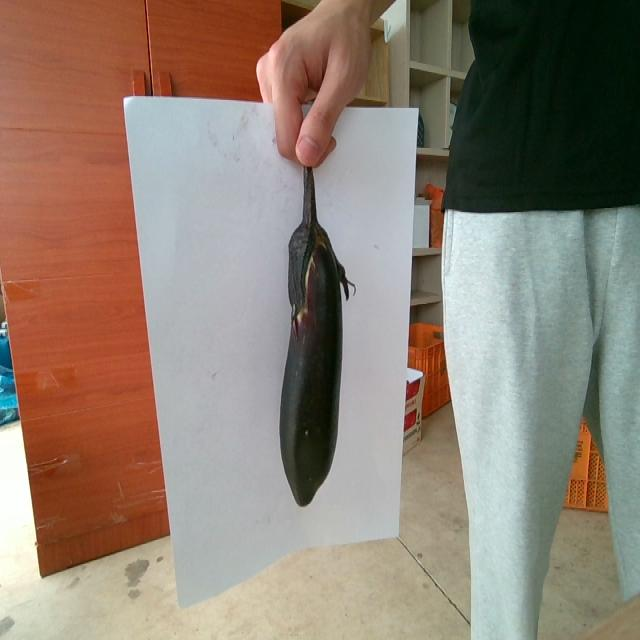Egg plant: (279, 167, 354, 505)
